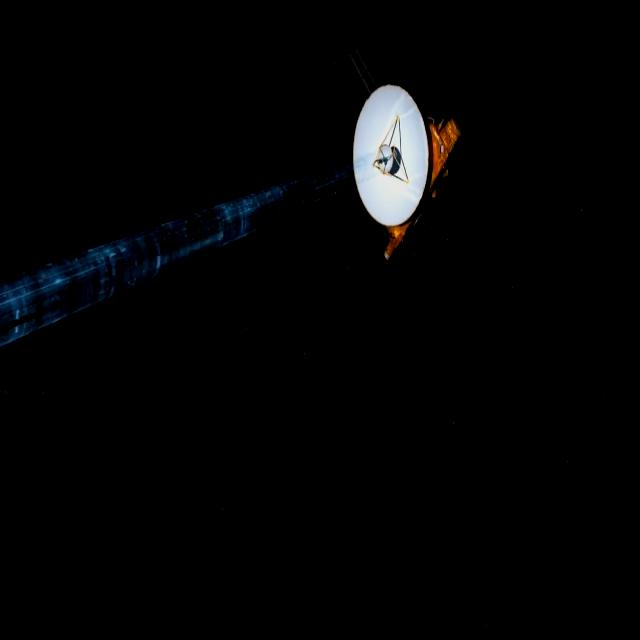medium_debris: (0, 35, 473, 345)
